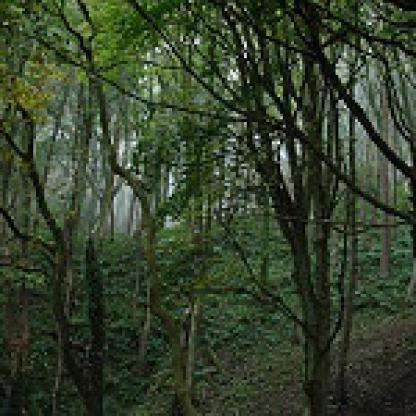tree: (119, 0, 367, 411), (0, 56, 133, 414)
